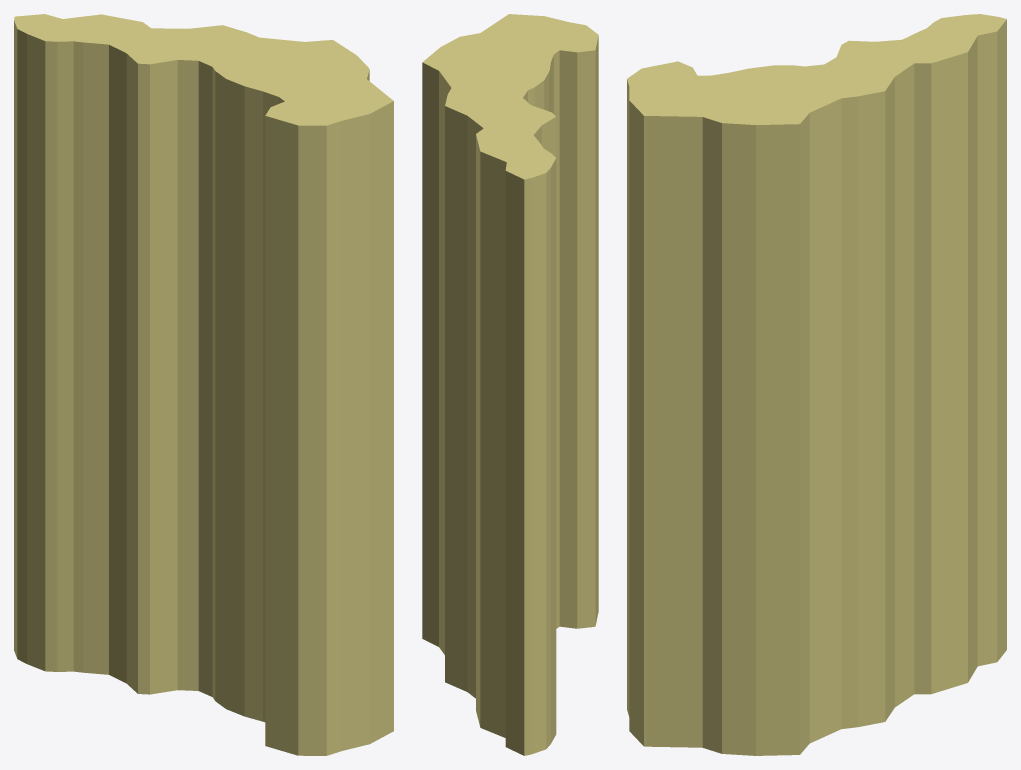
The model's file is wood_pine_centered02.dae.
3 views of the same model, side by side, from view 1: azimuth 30°, elevation 25°; view 2: azimuth 150°, elevation 25°; view 3: azimuth 270°, elevation 25° (orthographic). The views are drawn at different scales.
Parts seen in each view (by area): view 1: Object; view 2: Object; view 3: Object.
Boxes of the visible parts, box(x1,y1,x2,y2) form: Object: box(14, 14, 393, 755); Object: box(422, 14, 598, 755); Object: box(627, 14, 1006, 755).
Bounding box in the file's own units: 2.29 × 3.3 × 6.05.
